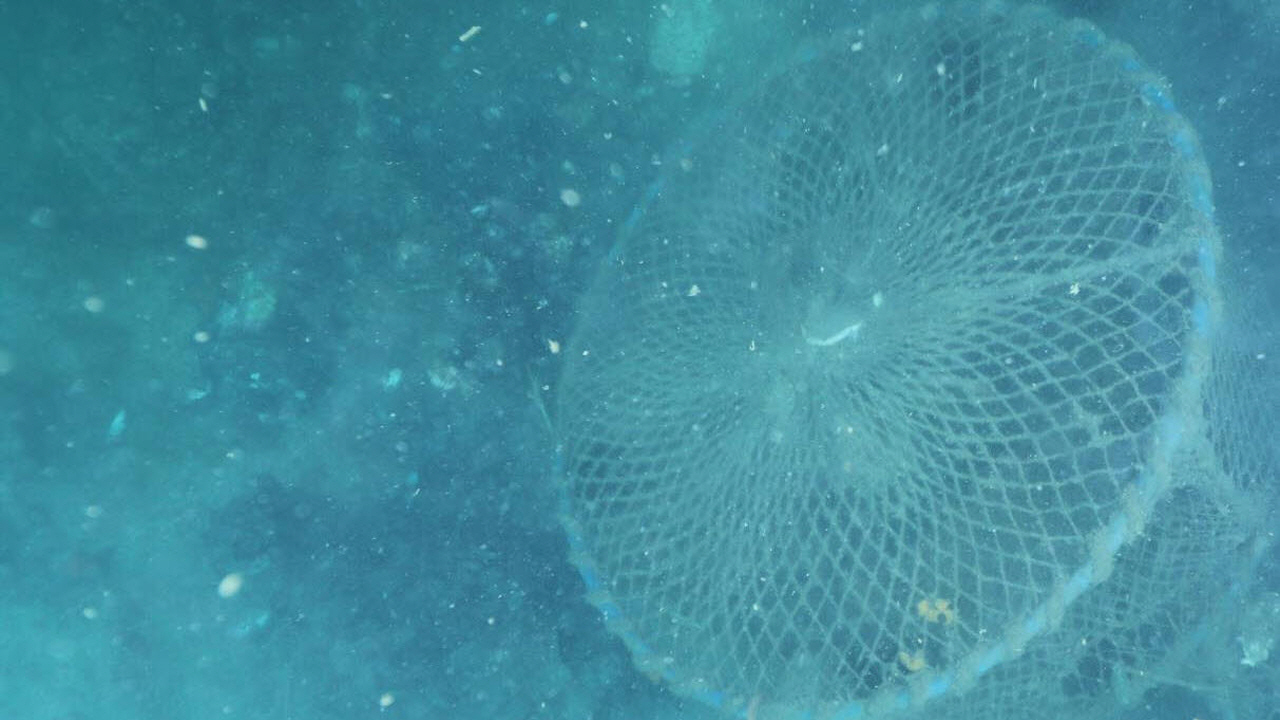circular fish trap: (545, 0, 1280, 720)
